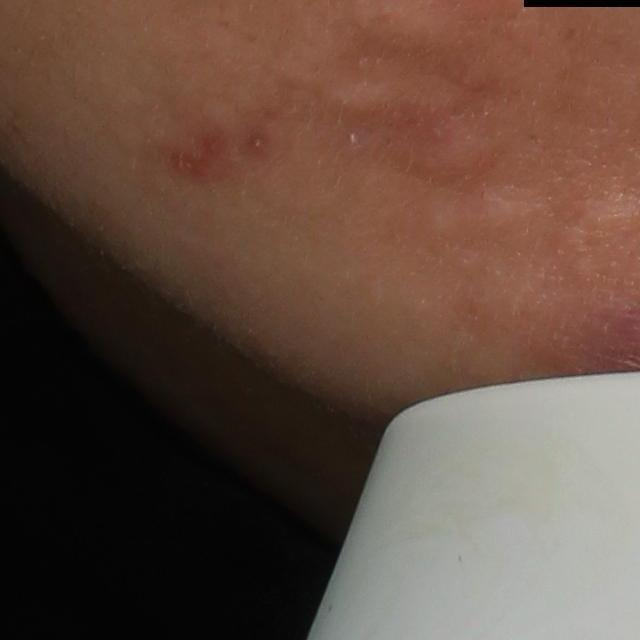hypertrophic_scar: (317, 79, 460, 122), (472, 189, 535, 243), (414, 197, 460, 247)
